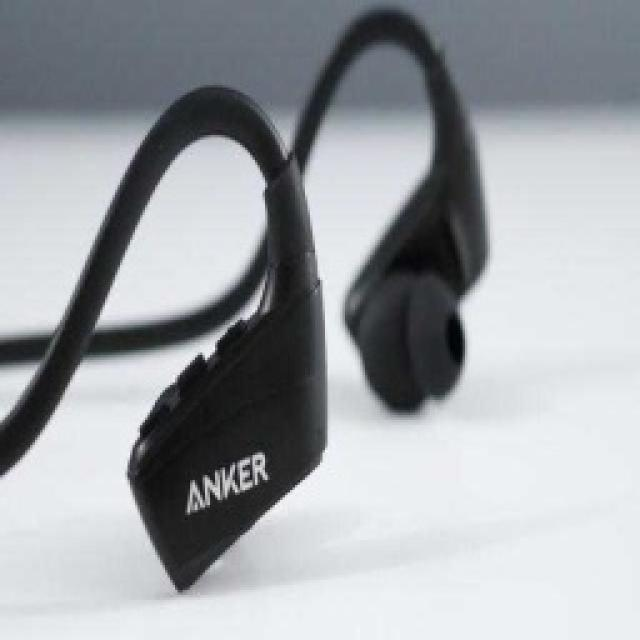headphones: (0, 2, 490, 592)
